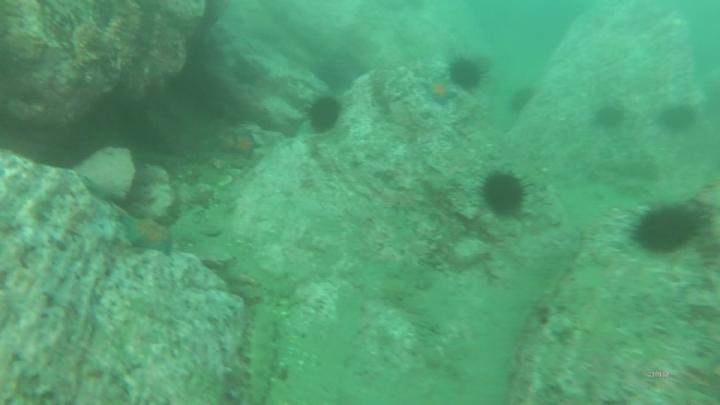echinus: (640, 205, 699, 252), (485, 176, 525, 218), (449, 59, 482, 90), (310, 99, 339, 130), (659, 106, 693, 132), (511, 84, 538, 116), (596, 106, 620, 125)
holothurian: (245, 308, 279, 405)
starfish: (120, 216, 172, 252), (422, 78, 455, 106), (232, 133, 257, 157)
